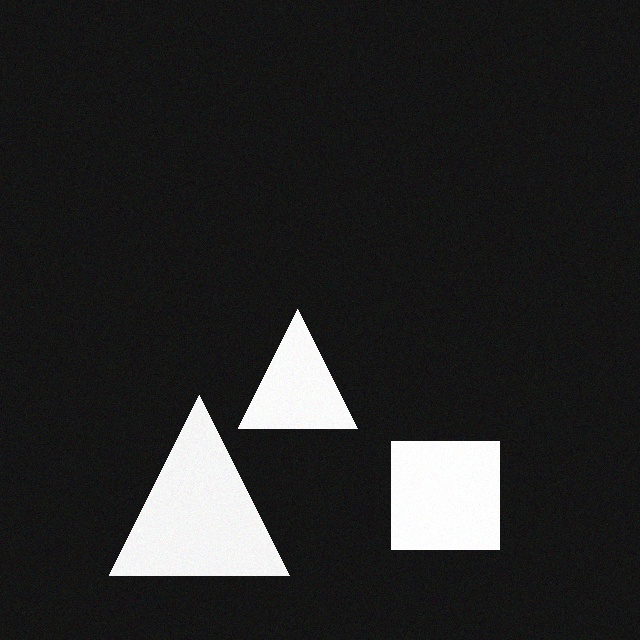square: (396, 426, 504, 534)
triangle: (114, 380, 294, 560), (243, 294, 362, 413)
